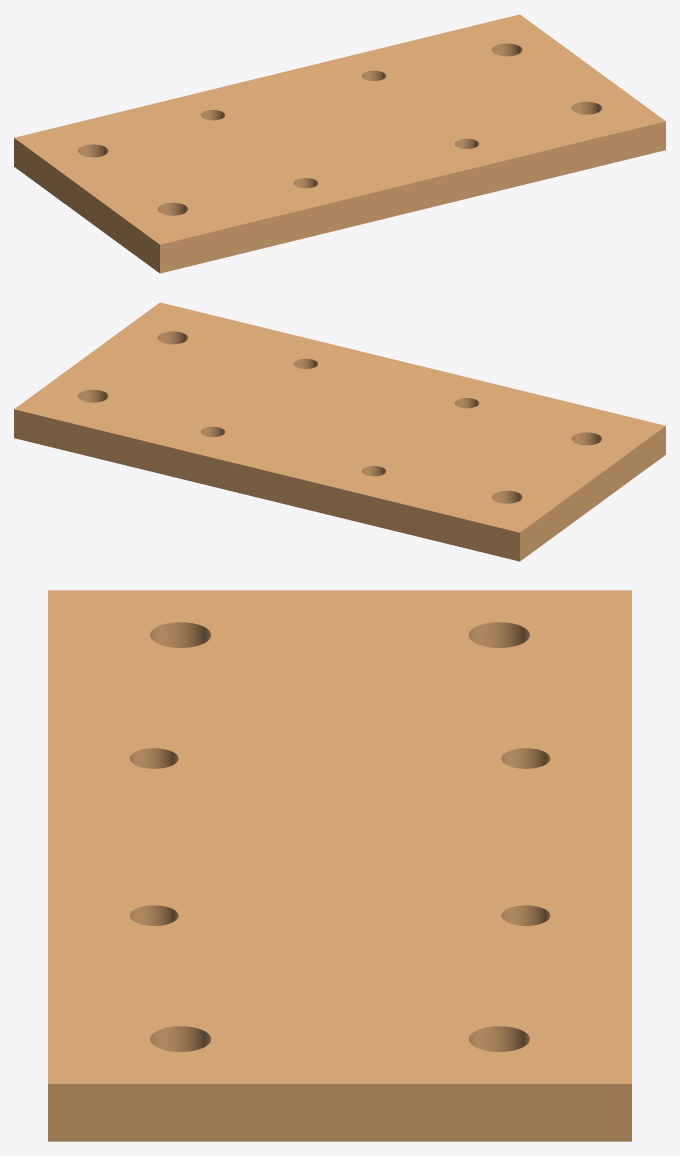
File: motor_mount.glb
3 views of the same model, one above another, from view 1: azimuth 30°, elevation 25°; view 2: azimuth 150°, elevation 25°; view 3: azimuth 270°, elevation 25° (orthographic). The views are drawn at different scales.
Visible parts, largest first — view 1: motor_mount.stl; view 2: motor_mount.stl; view 3: motor_mount.stl.
Boxes of the visible parts, x1,y1,x2,y2 form: motor_mount.stl: [14, 14, 665, 273]; motor_mount.stl: [14, 302, 665, 561]; motor_mount.stl: [48, 590, 631, 1141].
Bounding box in the file's own units: 0.22 × 0.012 × 0.11.
